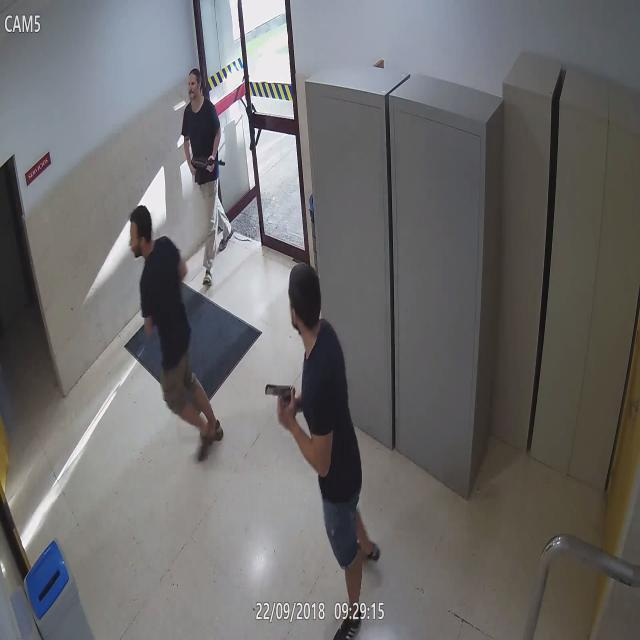Gun: (262, 378, 298, 430)
